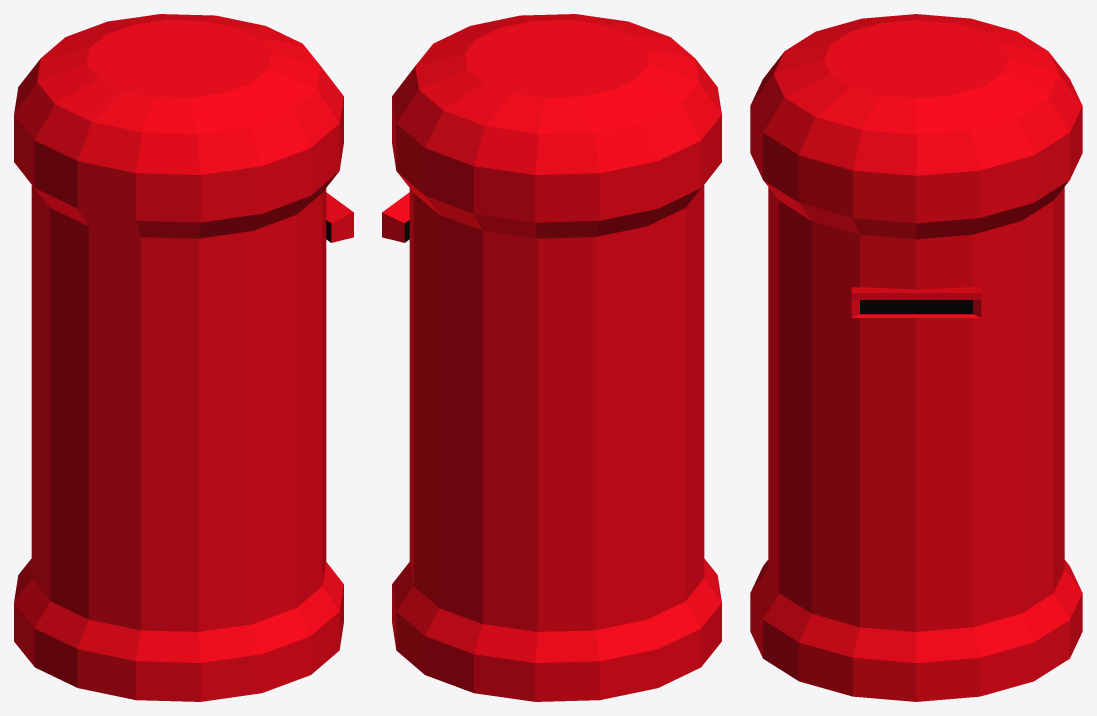
File: PostBox.fbx
3 renders of one model, left to right at view 1: azimuth 30°, elevation 25°; view 2: azimuth 150°, elevation 25°; view 3: azimuth 270°, elevation 25°, orthographic.
Visible parts, largest first — view 1: Cylinder; view 2: Cylinder; view 3: Cylinder.
Part boxes in pixels (x1,y1,x2,y2): Cylinder: (14,14,353,701); Cylinder: (382,14,721,701); Cylinder: (750,14,1082,701).
Size of the model in its own units: 200 by 380 by 200.
